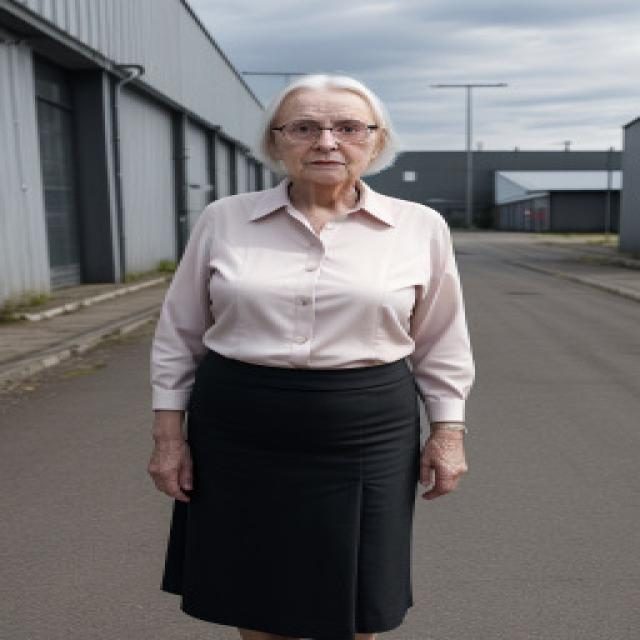Ai human 2: (123, 64, 525, 640)
